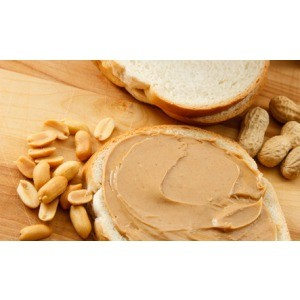peanut butter_brain food: (111, 141, 254, 238)
